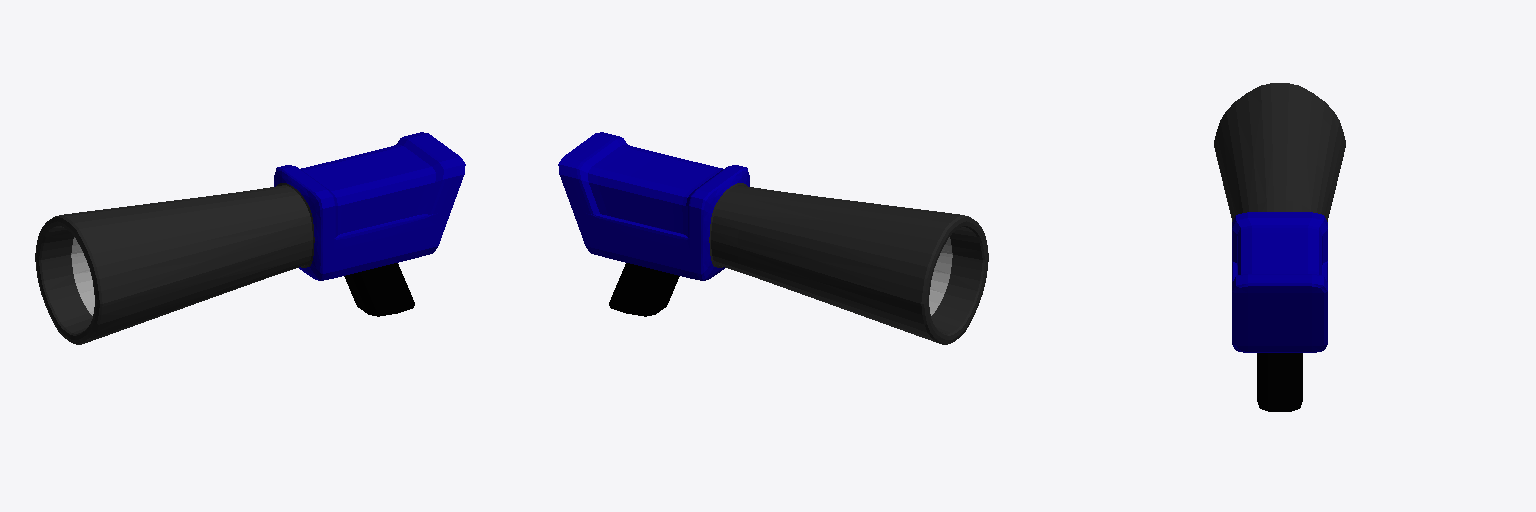
File: weapon_placeholderMesh.obj
The picture shows the model from 3 angles: view 1: azimuth 30°, elevation 25°; view 2: azimuth 150°, elevation 25°; view 3: azimuth 270°, elevation 25°; orthographic projection.
Parts seen in each view (by area): view 1: Cube; view 2: Cube; view 3: Cube.
Boxes of the visible parts, x1=… form: Cube: x1=35, y1=132, x2=465, y2=344; Cube: x1=558, y1=132, x2=988, y2=344; Cube: x1=1214, y1=83, x2=1345, y2=411.
Size of the model in its own units: 6.58 by 2.71 by 1.99.